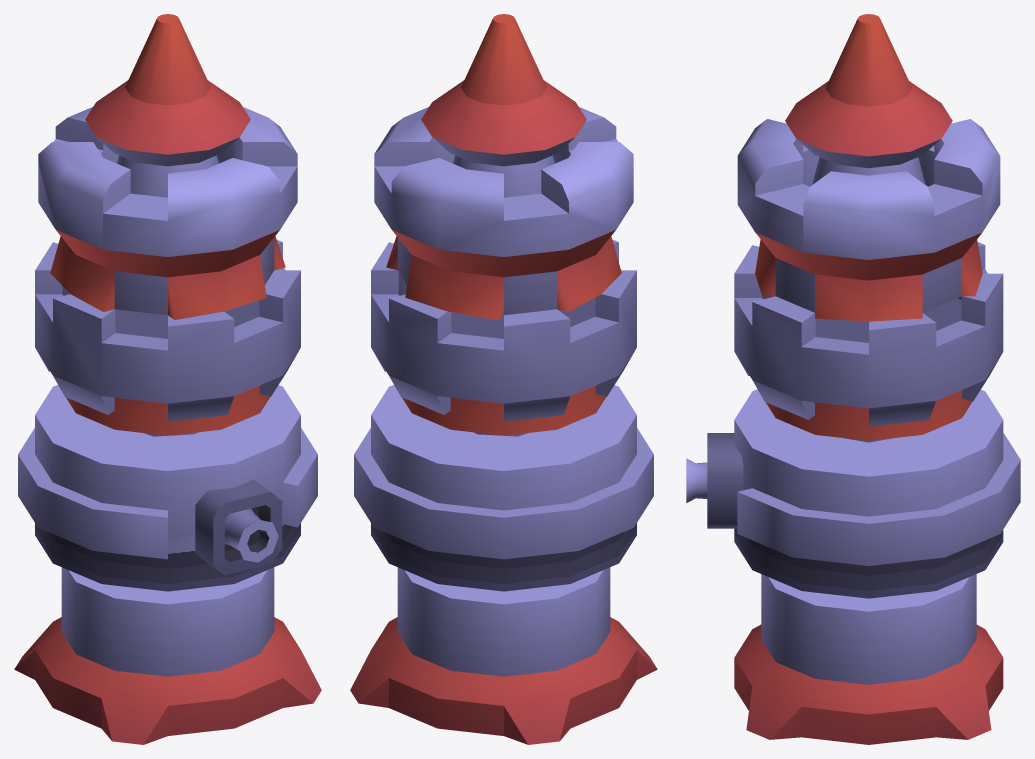
The model's file is tower-2-2.glb.
The picture shows the model from 3 angles, left to right: view 1: azimuth 30°, elevation 25°; view 2: azimuth 150°, elevation 25°; view 3: azimuth 270°, elevation 25°; orthographic projection.
Visible parts, largest first — view 1: tower:2-2; view 2: tower:2-2; view 3: tower:2-2.
Part boxes in pixels (left/top/right/bottom): tower:2-2: left=14, top=14, right=321, bottom=744; tower:2-2: left=350, top=14, right=657, bottom=744; tower:2-2: left=686, top=14, right=1020, bottom=744.
Size of the model in its own units: 1.65 by 4 by 1.81.
1 material, 1 textured.
